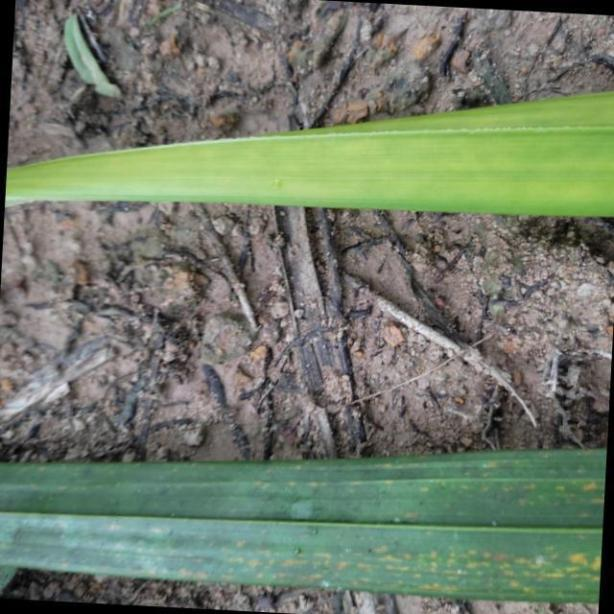nitrogen: (0, 451, 614, 603), (0, 86, 614, 218)
